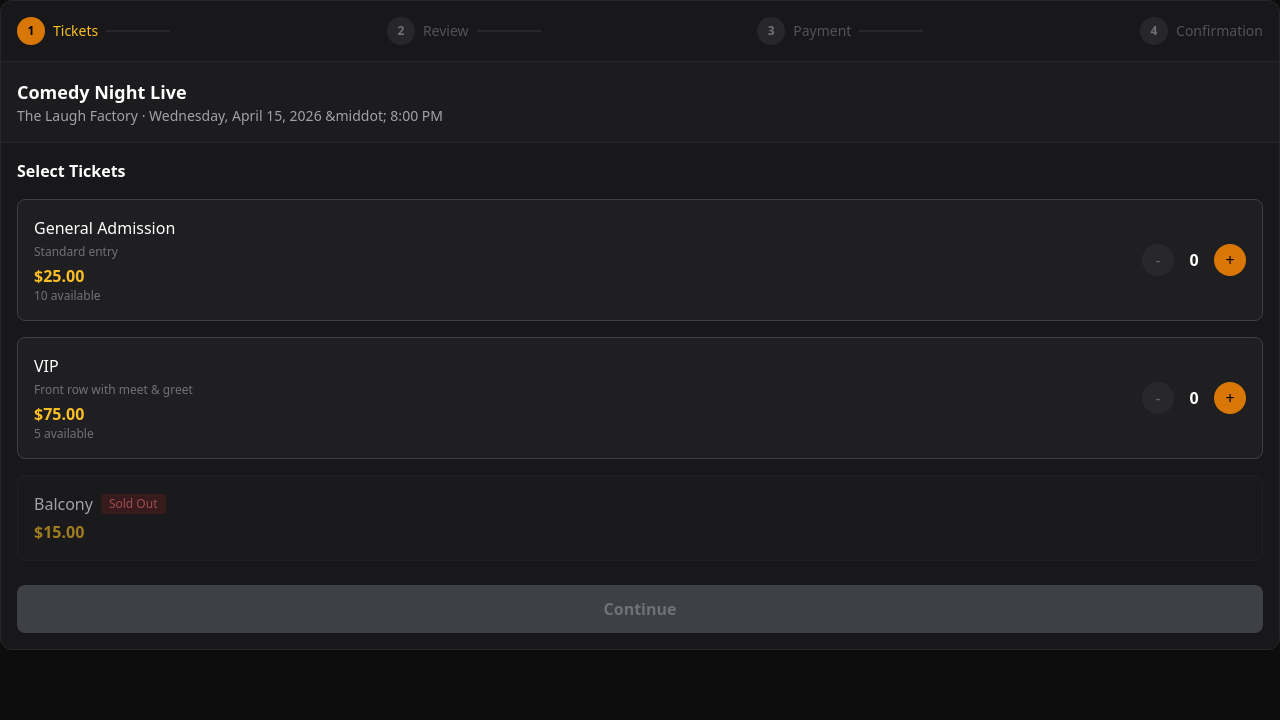
Test: CheckoutFlow › increments ticket quantity when + is clicked
The width and height of the screenshot is (1280, 720).
Note: Click + for General Admission
Click the button "+" in the row of "Standard entry".
click(1230, 260)  # box [1214,244,1246,276]
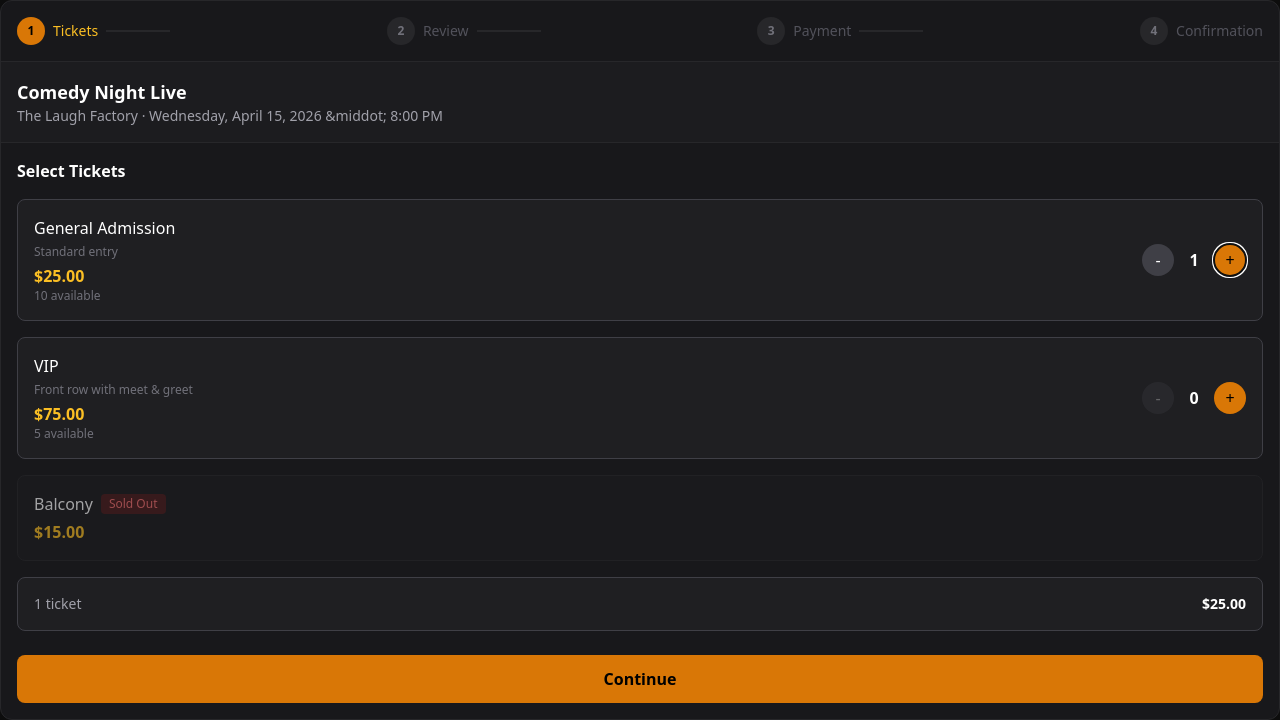
Check: the text "1 ticket" is shown, box [34,594,82,614]
